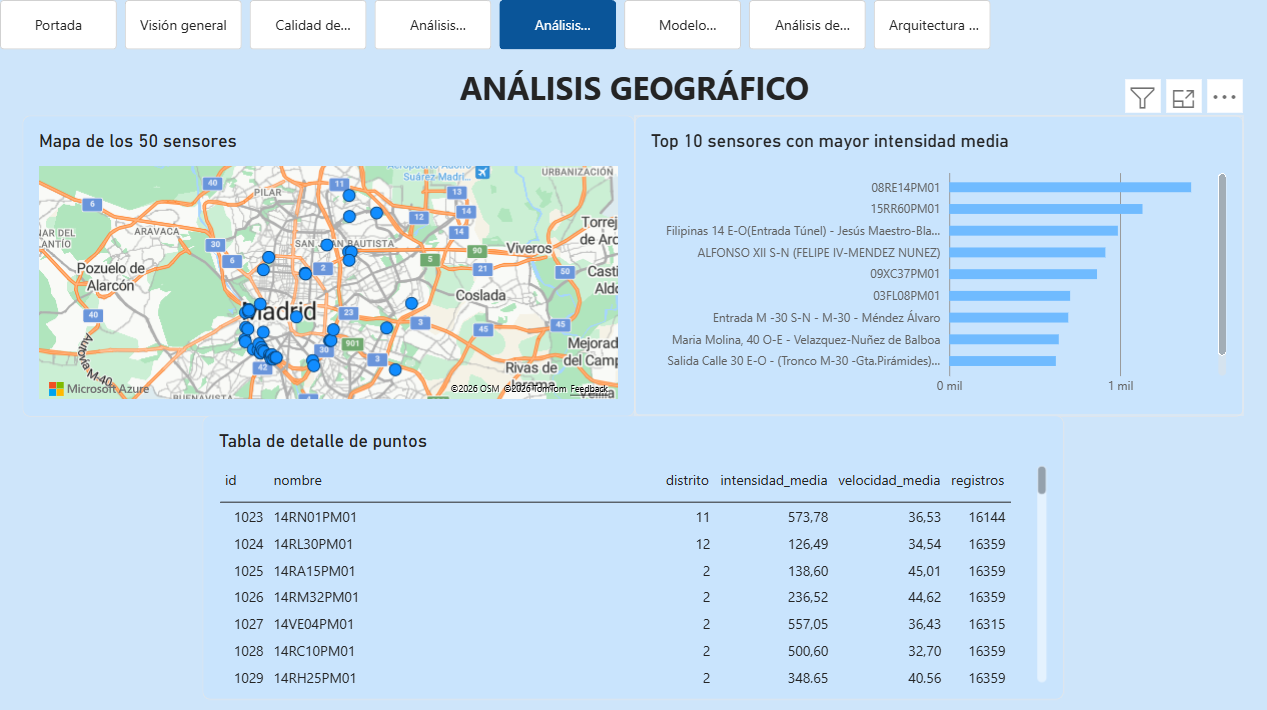

Layout of this report page (visuals, bound fields, positions):
{"tool":"powerbi","page":{"name":"Análisis geográfico","canvas":[1280,720],"ordinal":4},"visuals":[{"type":"azureMap","title":"Mapa de los 50 sensores","fields":{"Size":["CountNonNull(trafico_puntos_powerbi.intensidad_media)"],"X":["trafico_puntos_powerbi.longitud"],"Y":["trafico_puntos_powerbi.latitud"]},"box":[22.2,116.1,618.1,303.9],"z":0},{"type":"clusteredBarChart","title":"Top 10 sensores con mayor intensidad media","fields":{"Category":["trafico_puntos_powerbi.nombre"],"Y":["Avg(trafico_puntos_powerbi.intensidad_media)"]},"box":[640.3,116.1,614.7,303.9],"z":1000},{"type":"tableEx","title":"Tabla de detalle de puntos","fields":{"Values":["trafico_puntos_powerbi.id","trafico_puntos_powerbi.nombre","trafico_puntos_powerbi.distrito","trafico_puntos_powerbi.intensidad_media","trafico_puntos_powerbi.velocidad_media","trafico_puntos_powerbi.registros"]},"box":[204.9,420,869.1,286.9],"z":2000},{"type":"pageNavigator","box":[0,0,1000,50],"z":3000},{"type":"textbox","box":[0,66.6,1280.6,49.5],"z":4000}]}

Visuals, with their boxes on the page's 1280x720 design canvas (x1, y1, x2, y2). These are canvas units, not pixel positions in the 1267x710 screenshot, which may show the page scaled, cropped or inside an application window:
"Mapa de los 50 sensores" azureMap: locate(22, 116, 640, 420)
"Top 10 sensores con mayor intensidad media" clusteredBarChart: locate(640, 116, 1255, 420)
"Tabla de detalle de puntos" tableEx: locate(205, 420, 1074, 707)
pageNavigator: locate(0, 0, 1000, 50)
textbox: locate(0, 67, 1281, 116)
